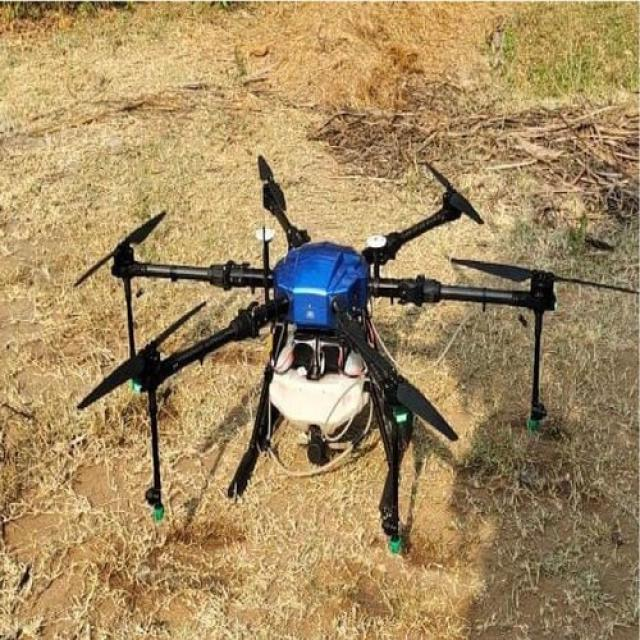drone: (17, 130, 615, 560)
